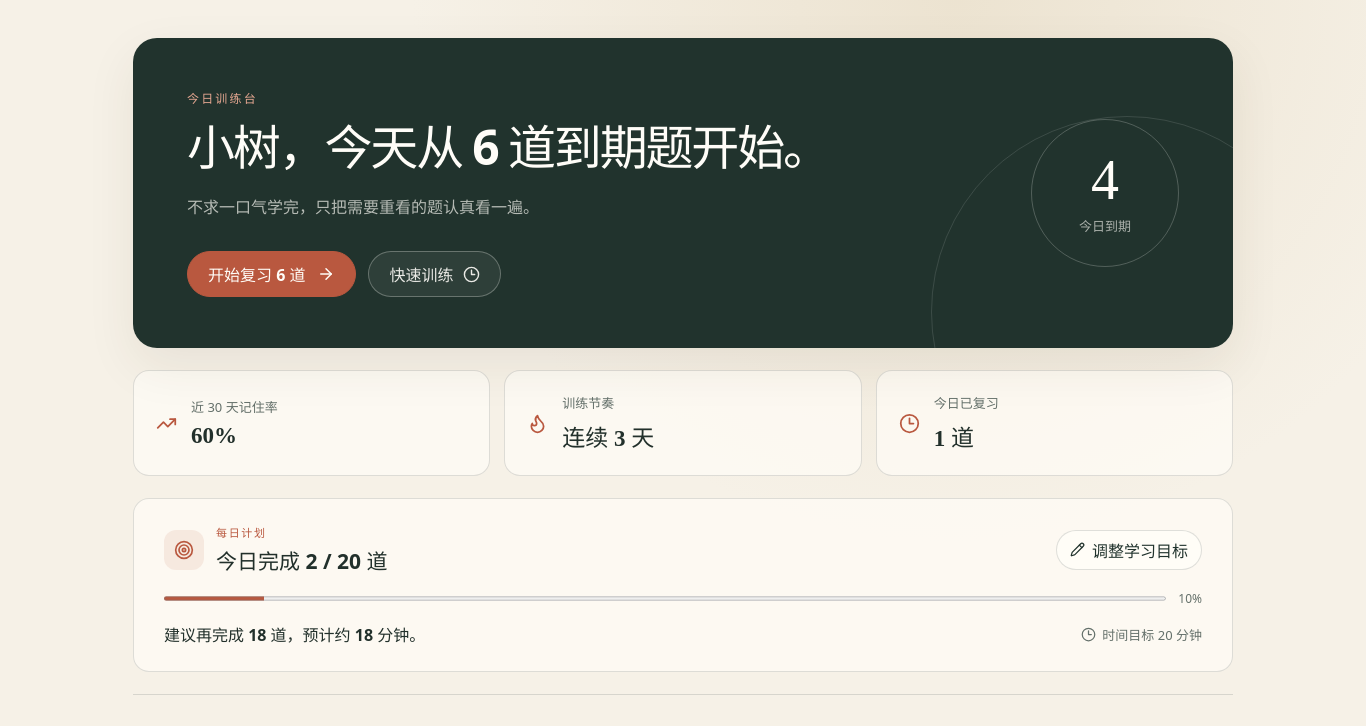
Test: DashboardView › keeps the user on the dashboard when quick selection is empty
The image size is (1366, 726).
Click the button "快速训练" at (434, 274), box [368,251,500,297]
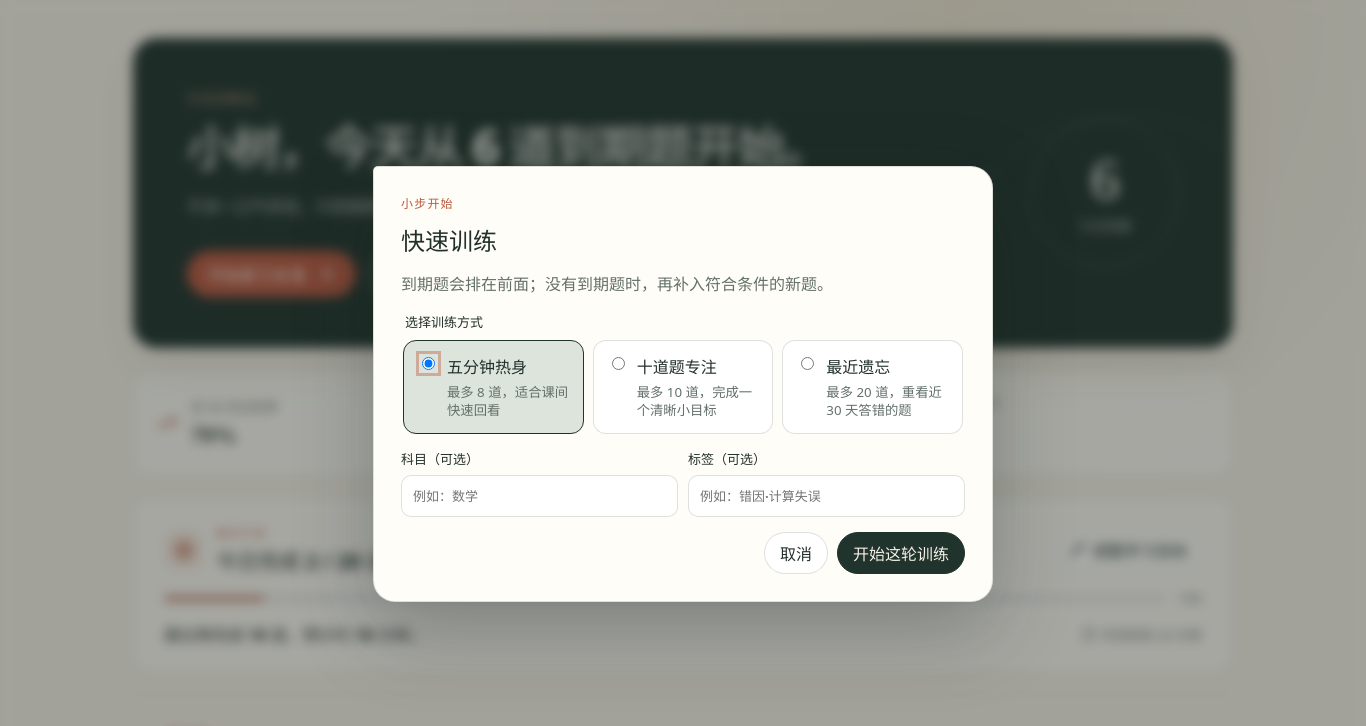
Click the button "开始这轮训练" at (901, 553), box [837,532,965,574]
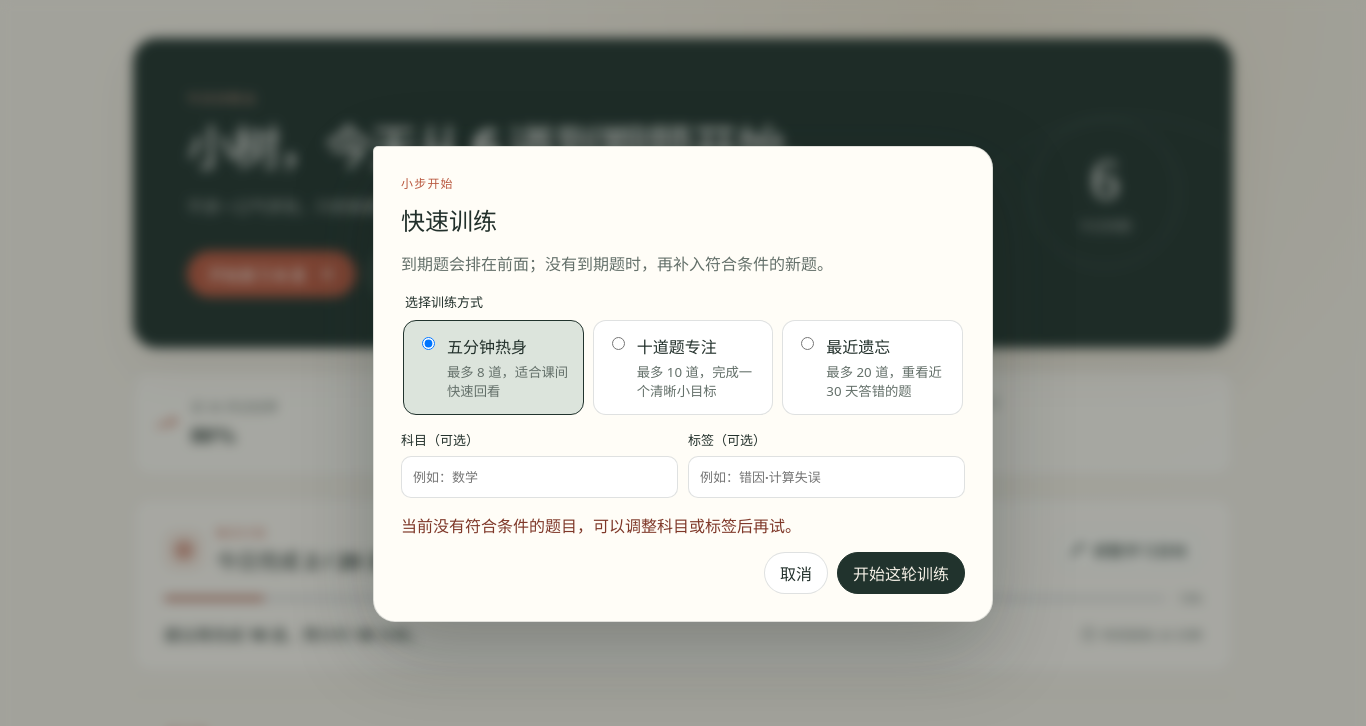
Now the button "开始这轮训练" is enabled, box [837,552,965,594]
Now the message shows "调整科目或标签", box [401,514,801,536]
